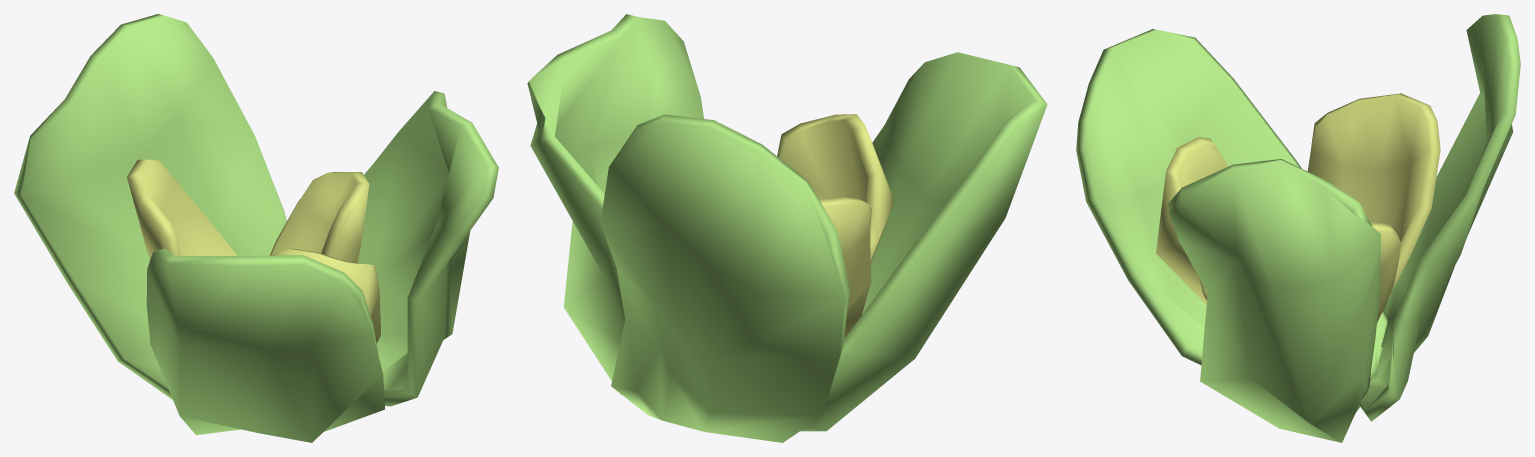
Rendered from fbx_salad_small.fbx.
3 renders of one model, left to right at view 1: azimuth 30°, elevation 25°; view 2: azimuth 150°, elevation 25°; view 3: azimuth 270°, elevation 25°, orthographic. The views are drawn at different scales.
Visible parts, largest first — view 1: SmallLetuce; view 2: SmallLetuce; view 3: SmallLetuce.
Boxes of the visible parts, <box> form: SmallLetuce: <box>14,14,498,442</box>; SmallLetuce: <box>527,14,1047,442</box>; SmallLetuce: <box>1076,14,1520,442</box>.
Bounding box in the file's own units: 34.48 × 30.5 × 34.7.
